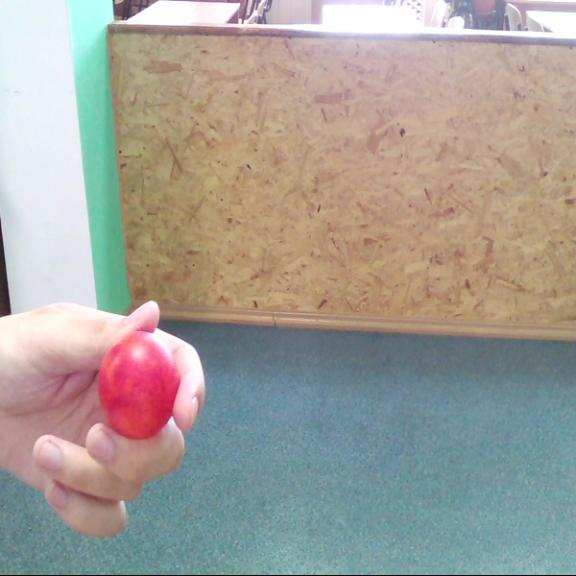ball: (100, 333, 182, 437)
